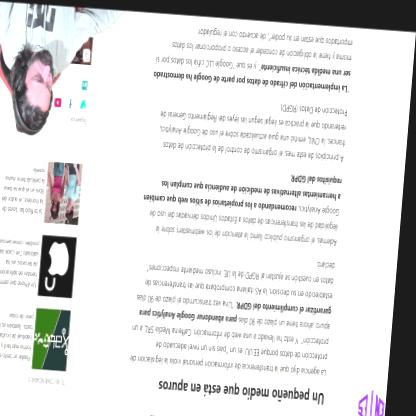streamer: (0, 2, 127, 141)
